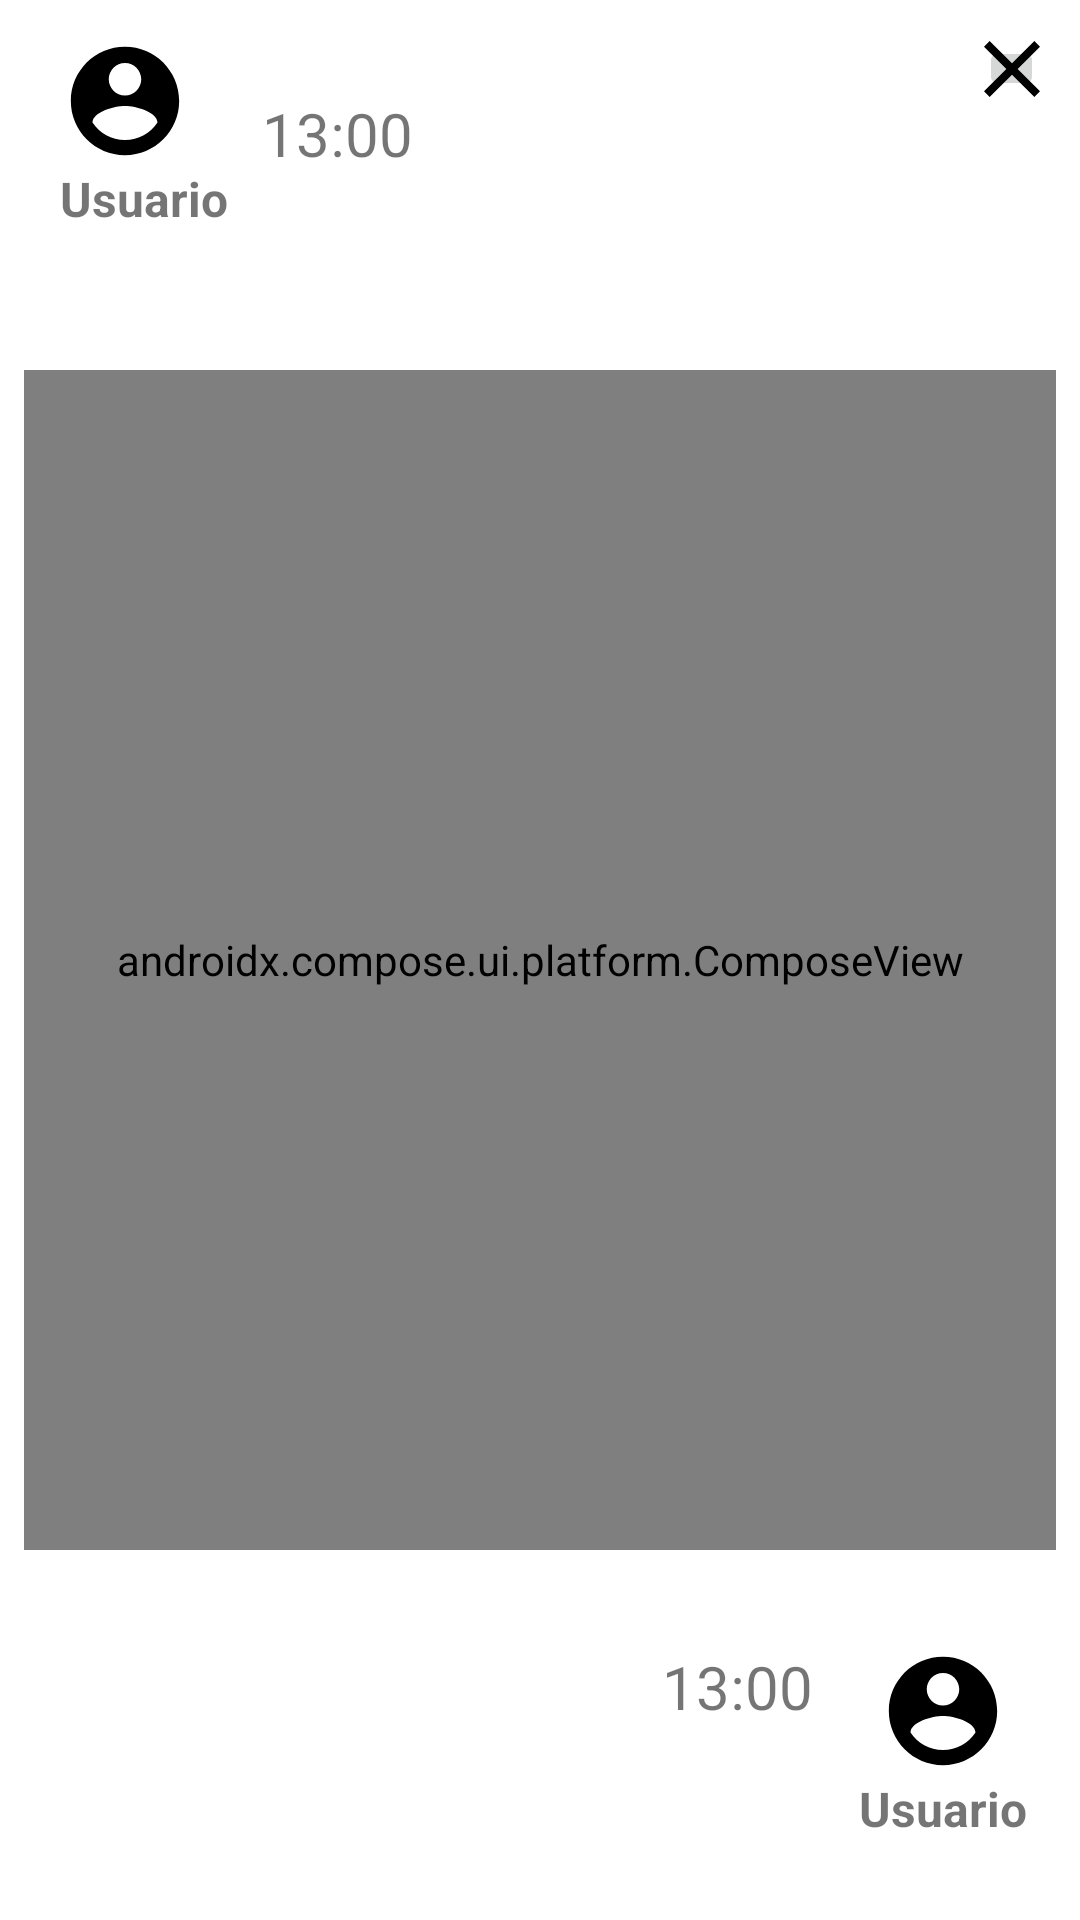

Icons on this 1080px×1920px Android screen, each with its box as region(x1, y1, x2, y2):
close: region(984, 41, 1040, 97)
